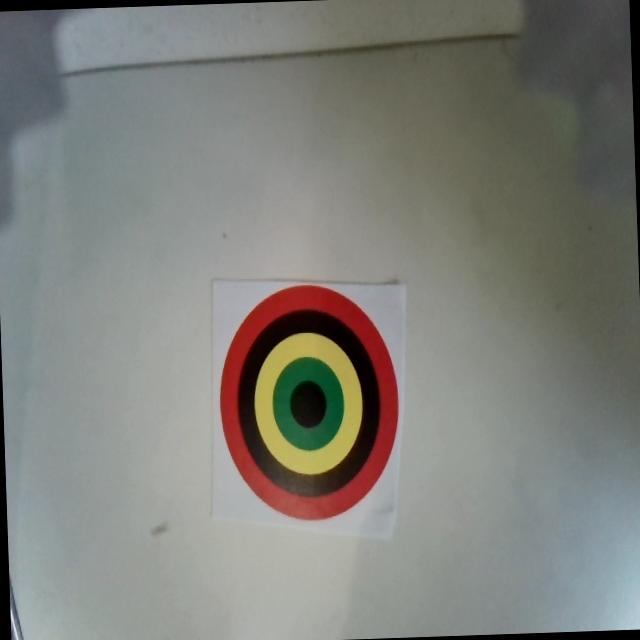cogn: (215, 280, 402, 522)
